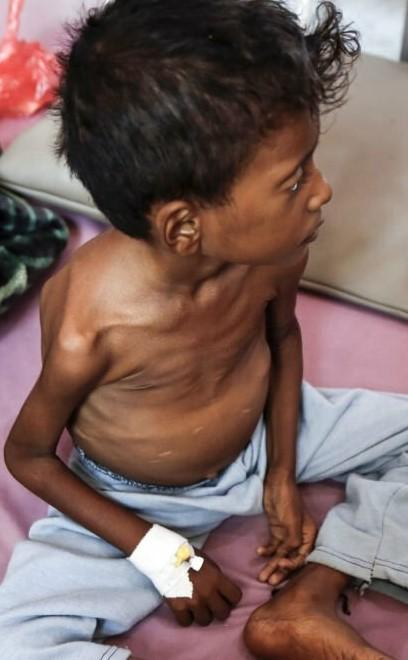Stunting: (35, 0, 373, 328)
